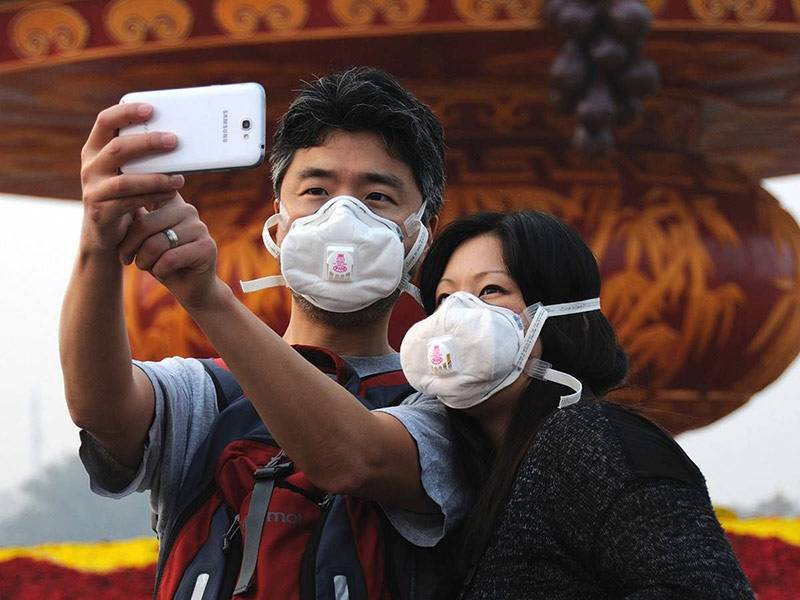face_mask: (278, 130, 410, 310), (401, 246, 532, 409)
